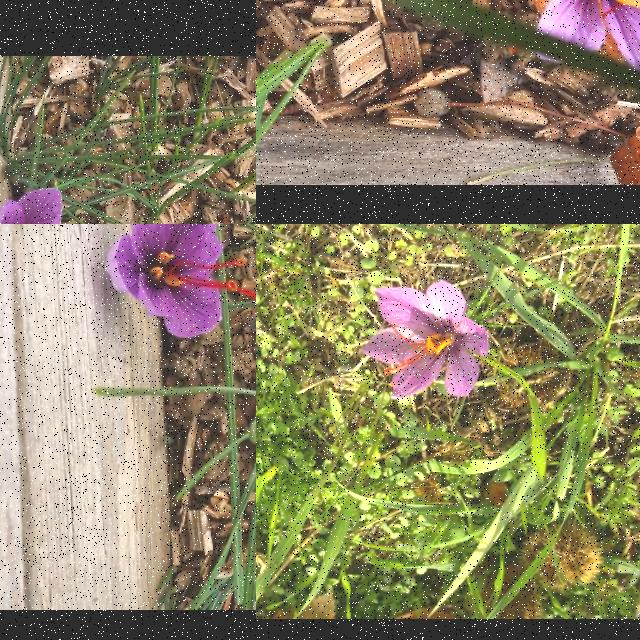flower: (104, 224, 256, 340), (358, 280, 488, 400), (532, 0, 640, 122), (0, 187, 95, 224)
